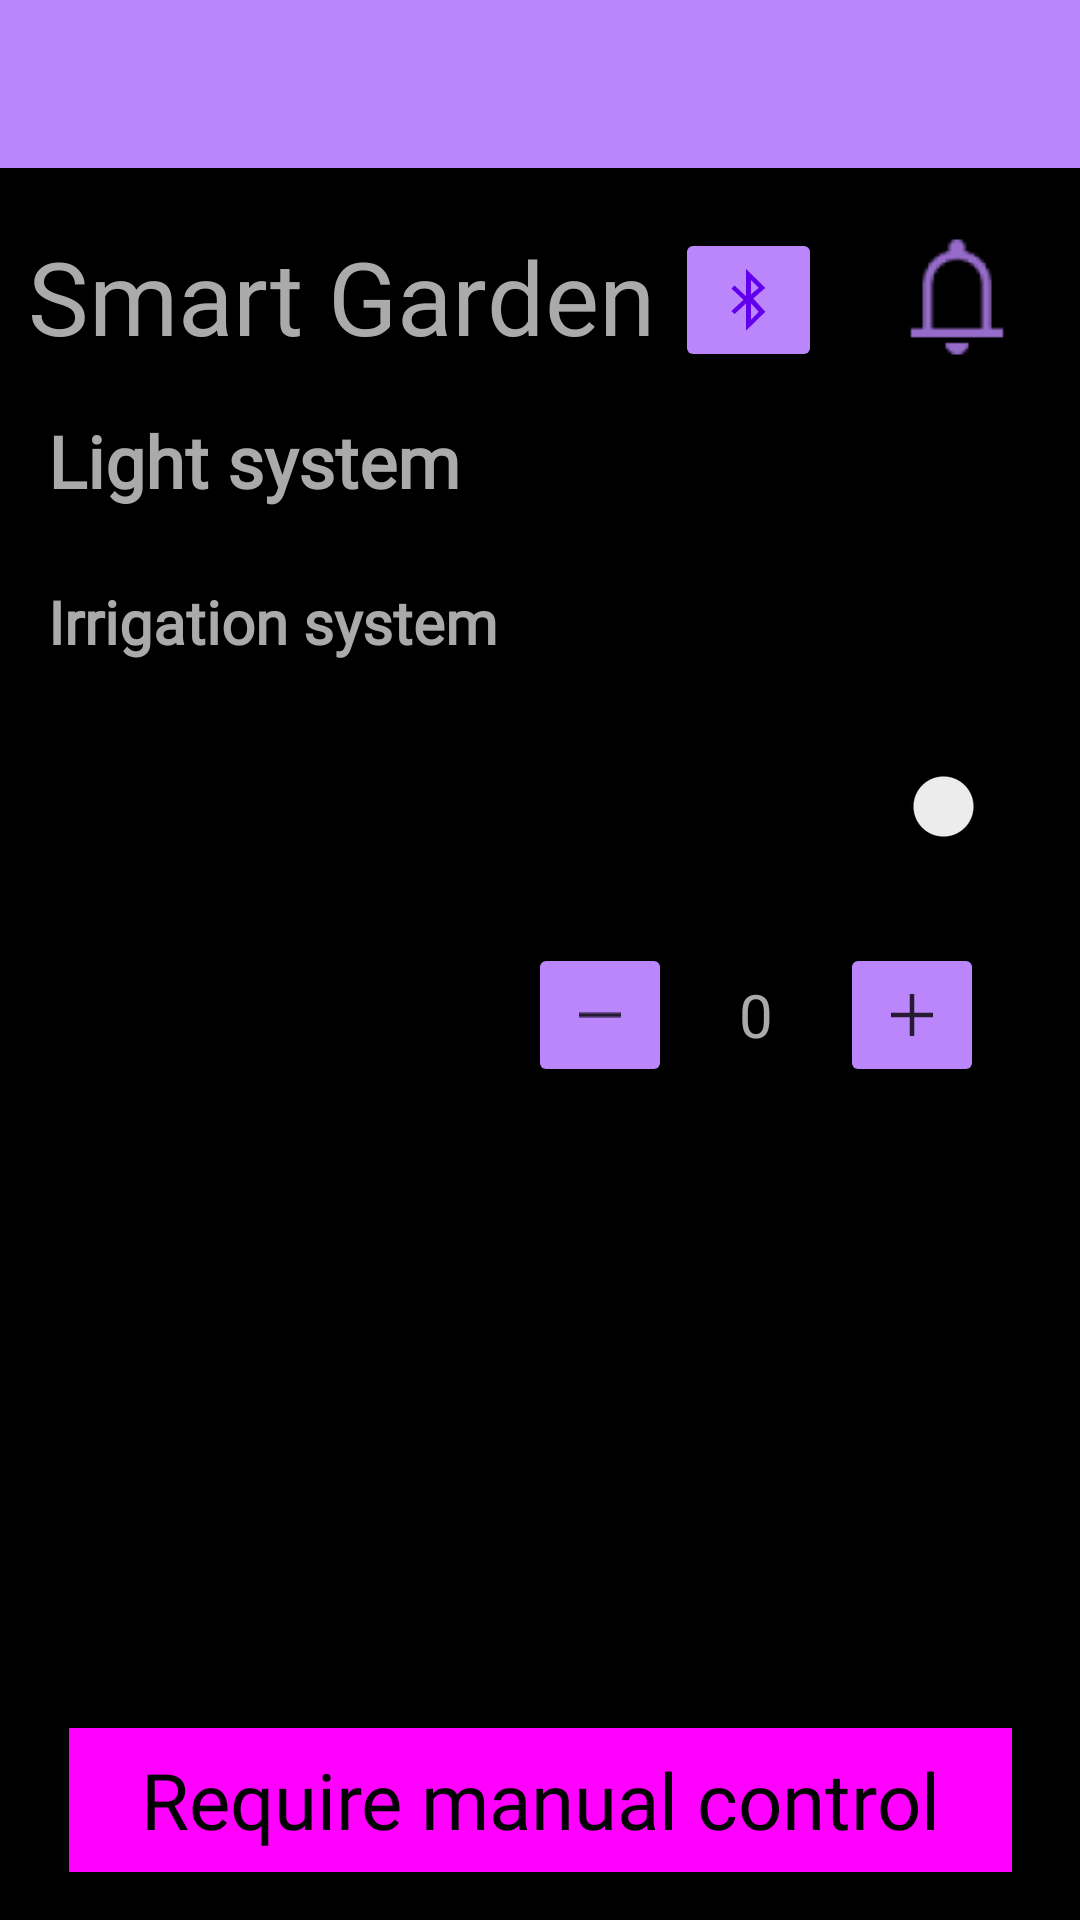

Named icons in this screenshot (1080 × 1920) and their centers, [x,y]:
add: [912,1015]
minus: [600,1015]
notification: [957,297]
